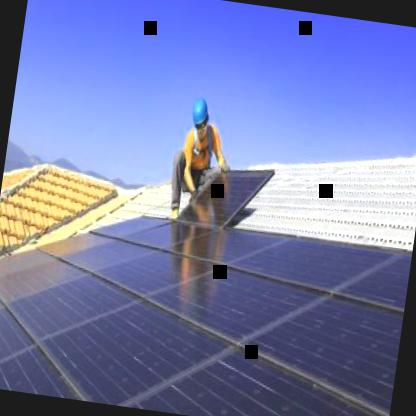helmet: (184, 89, 216, 138)
